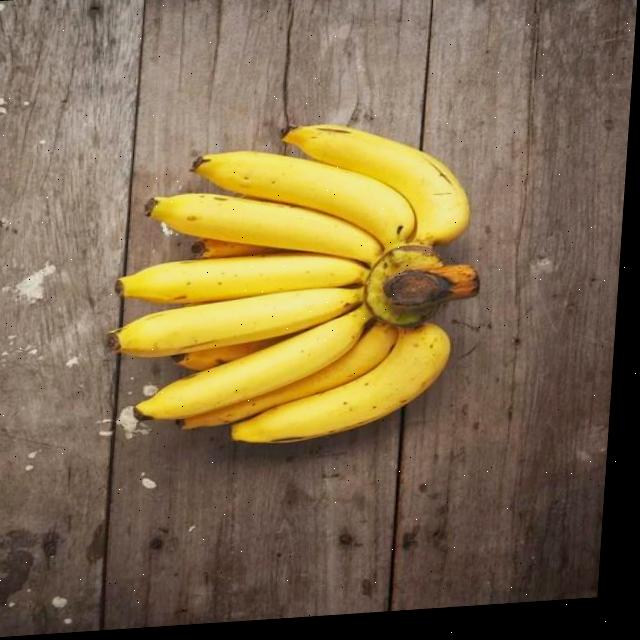banana: (94, 109, 499, 461)
